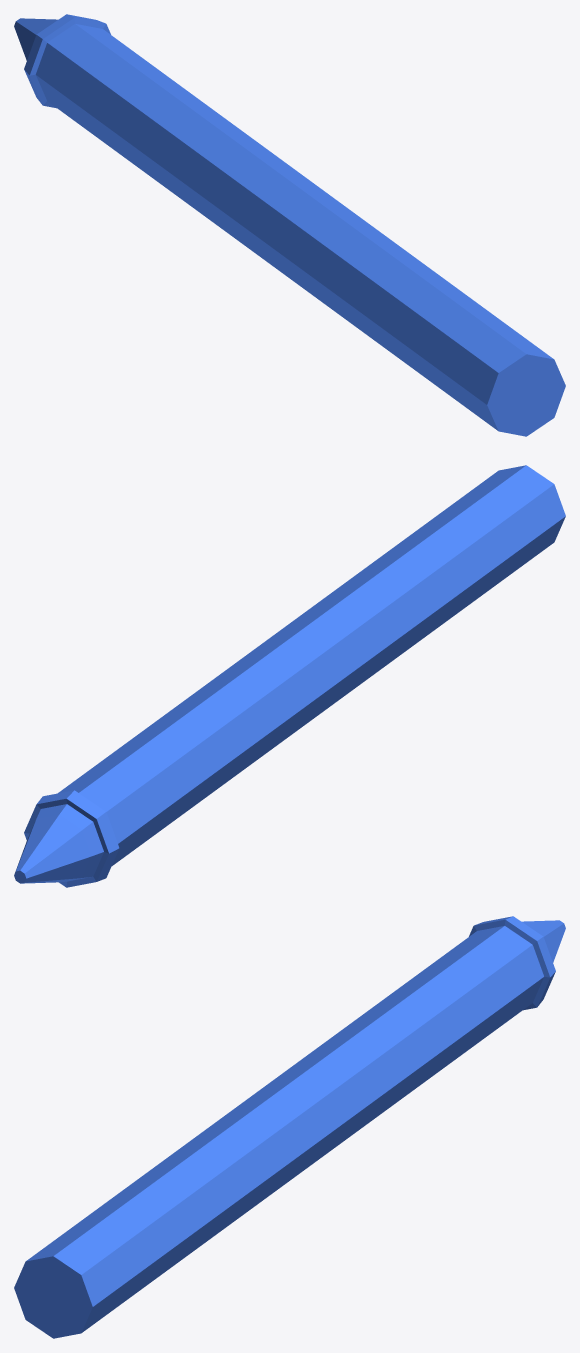
The model's file is Spike_Detach.fbx.
3 views of the same model, one above another, from view 1: azimuth 30°, elevation 25°; view 2: azimuth 150°, elevation 25°; view 3: azimuth 330°, elevation 25° (orthographic).
Parts seen in each view (by area): view 1: Spike_Detach; view 2: Spike_Detach; view 3: Spike_Detach.
Boxes of the visible parts, x1,y1,x2,y2 form: Spike_Detach: (14, 14, 565, 436); Spike_Detach: (14, 465, 565, 887); Spike_Detach: (14, 916, 565, 1338).
Size of the model in its own units: 26.48 by 26.48 by 258.
